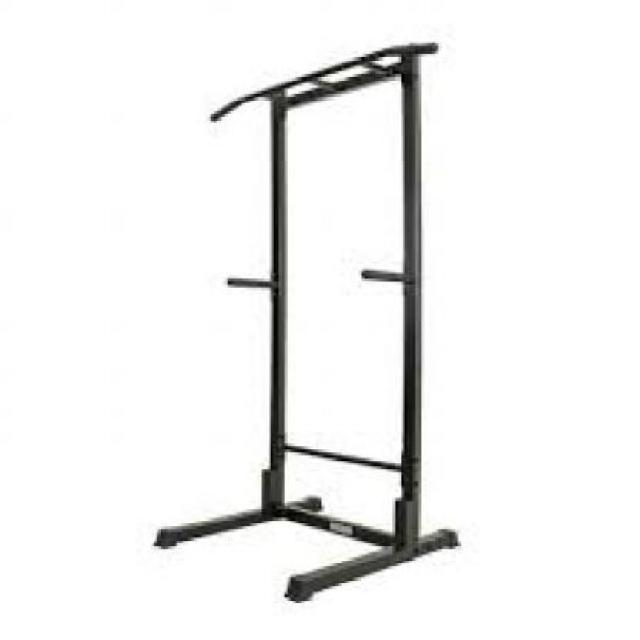chinning dipping: (156, 40, 462, 602)
